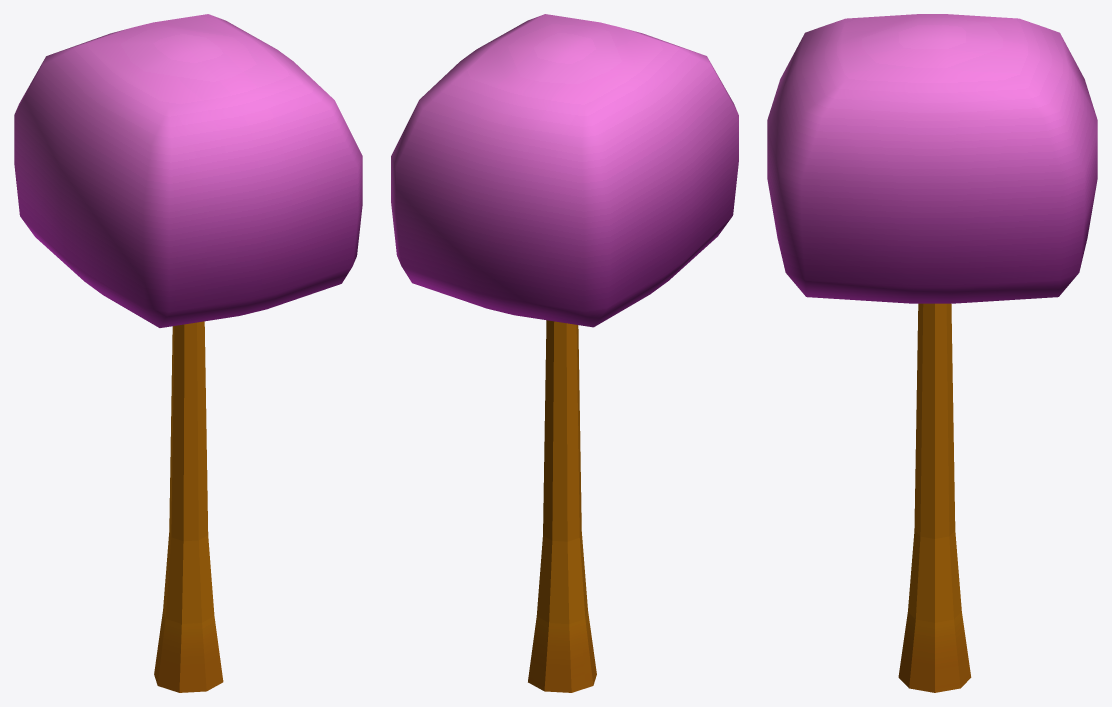
Rendered from mini-2-pink.fbx.
3 renders of one model, left to right at view 1: azimuth 30°, elevation 25°; view 2: azimuth 150°, elevation 25°; view 3: azimuth 270°, elevation 25°, orthographic.
Visible parts, largest first — view 1: Cylinder.006; view 2: Cylinder.006; view 3: Cylinder.006.
Boxes of the visible parts, x1,y1,x2,y2 form: Cylinder.006: [14, 14, 362, 692]; Cylinder.006: [391, 14, 738, 692]; Cylinder.006: [767, 14, 1097, 692].
Bounding box in the file's own units: 32.54 × 82.83 × 38.56.
